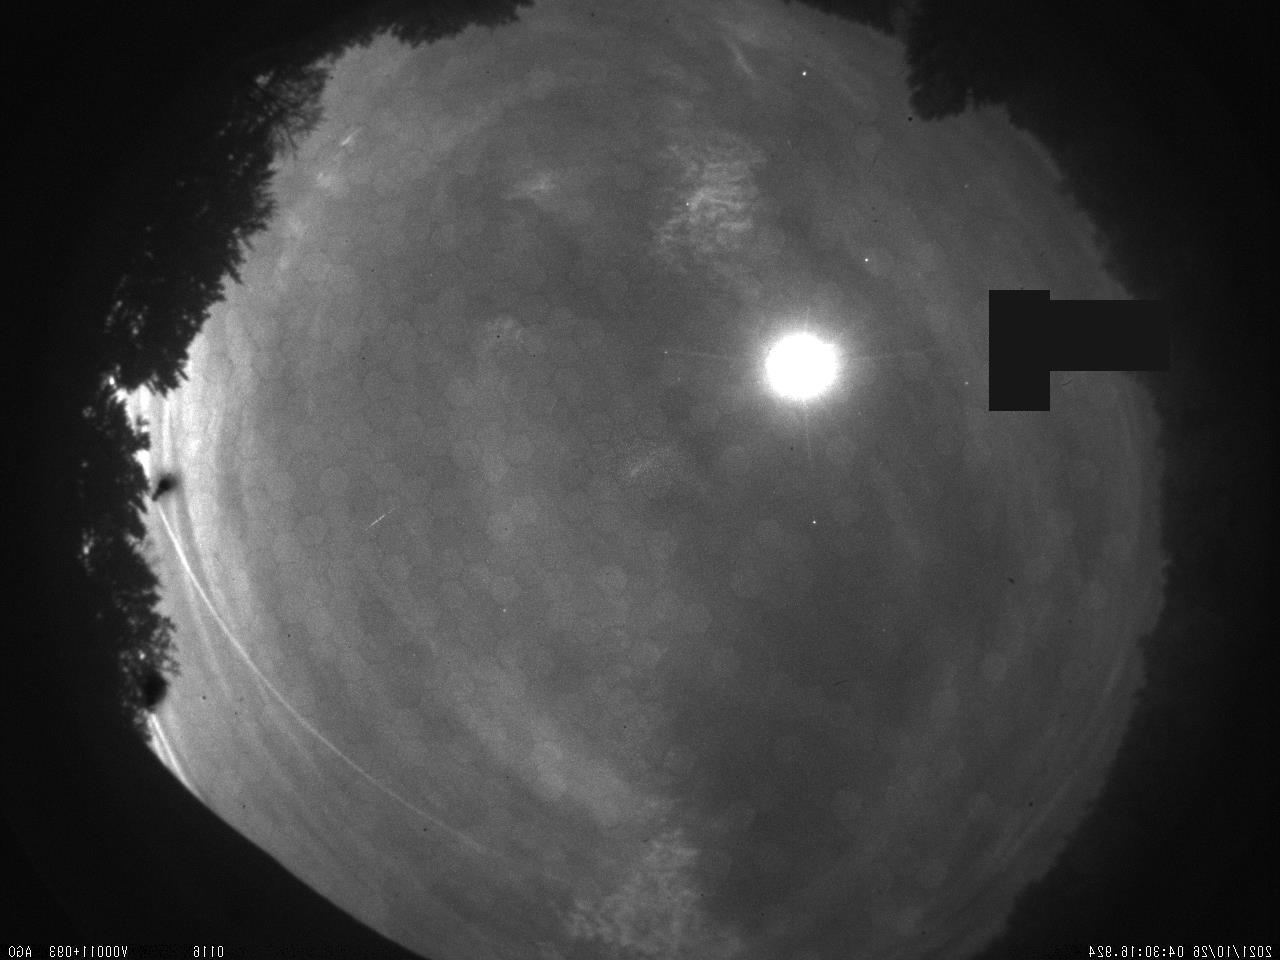meteor: (356, 507, 400, 540)
